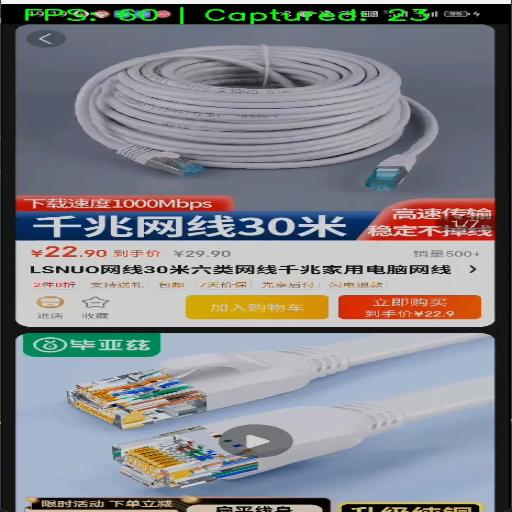back: (32, 30, 78, 48)
butten: (22, 260, 492, 278), (20, 288, 84, 321)
